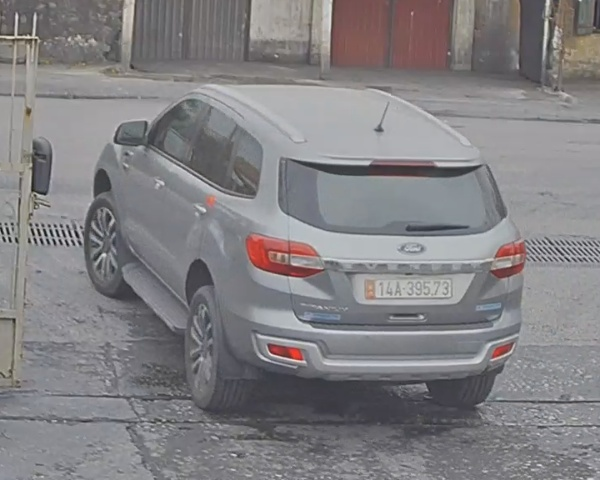vehicle plate: (357, 271, 458, 300)
